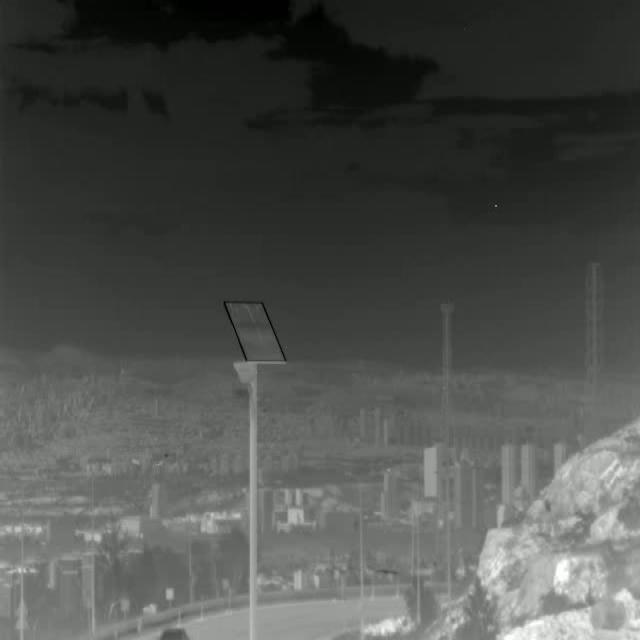Car: (158, 625, 190, 640)
